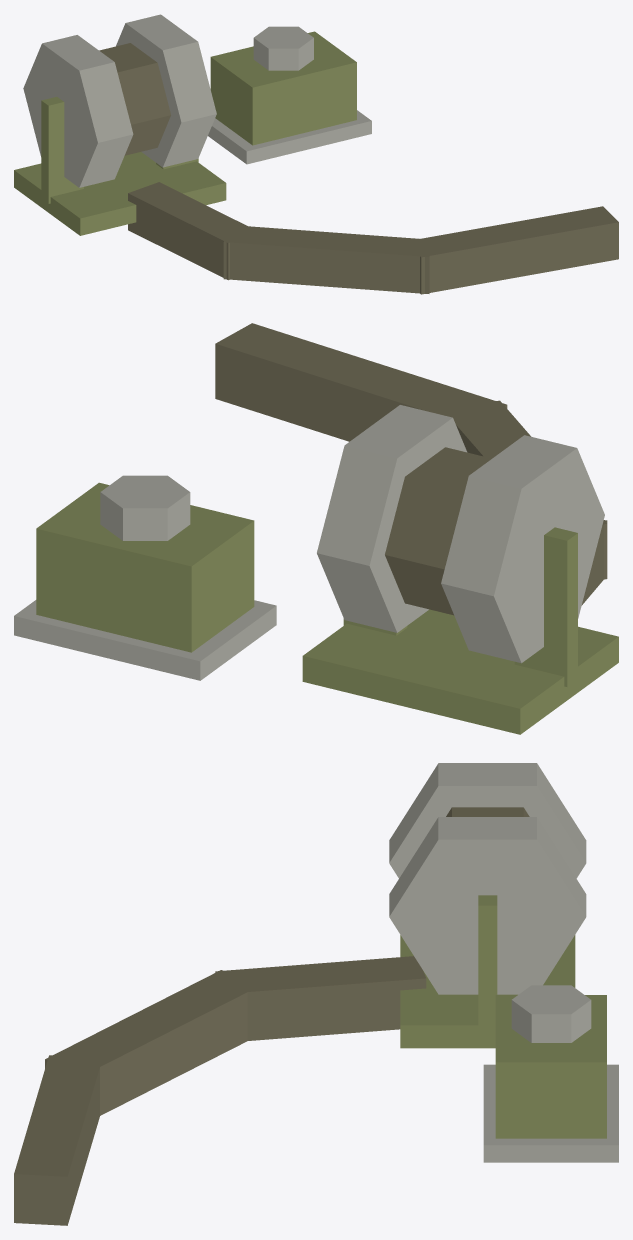
The model's file is SM_Carrete_v4_Bomba_LOD1.fbx.
The picture shows the model from 3 angles, top to bottom: view 1: azimuth 30°, elevation 25°; view 2: azimuth 150°, elevation 25°; view 3: azimuth 270°, elevation 25°; orthographic projection. The views are drawn at different scales.
Parts seen in each view (by area): view 1: SM_farp_betera_v14_LOD1; view 2: SM_farp_betera_v14_LOD1; view 3: SM_farp_betera_v14_LOD1.
Boxes of the visible parts, x1,y1,x2,y2 form: SM_farp_betera_v14_LOD1: (14, 14, 618, 294); SM_farp_betera_v14_LOD1: (14, 323, 618, 734); SM_farp_betera_v14_LOD1: (14, 763, 618, 1225).
Bounding box in the file's own units: 3.83 × 1.5 × 3.8.
